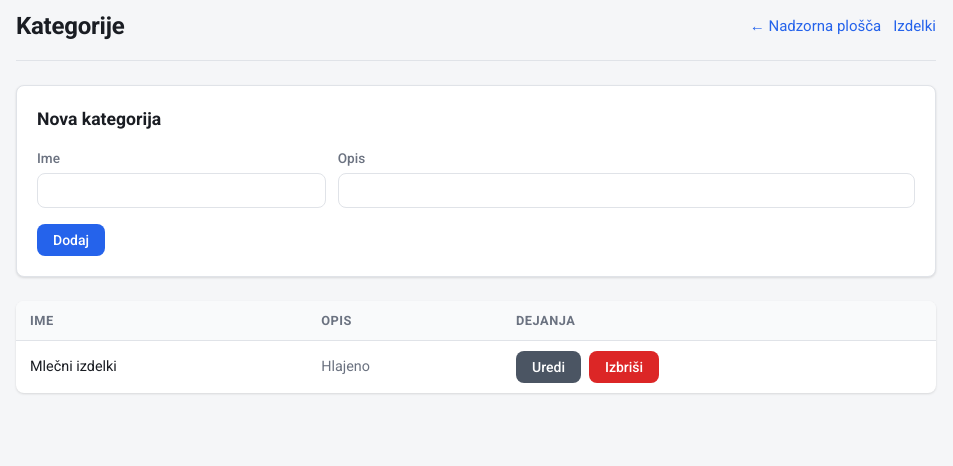
Test: CategoriesPage › shows CATEGORY_IN_USE when deleting a used category
Click the button "Izbriši".
click(624, 367)  # box [589,351,659,383]
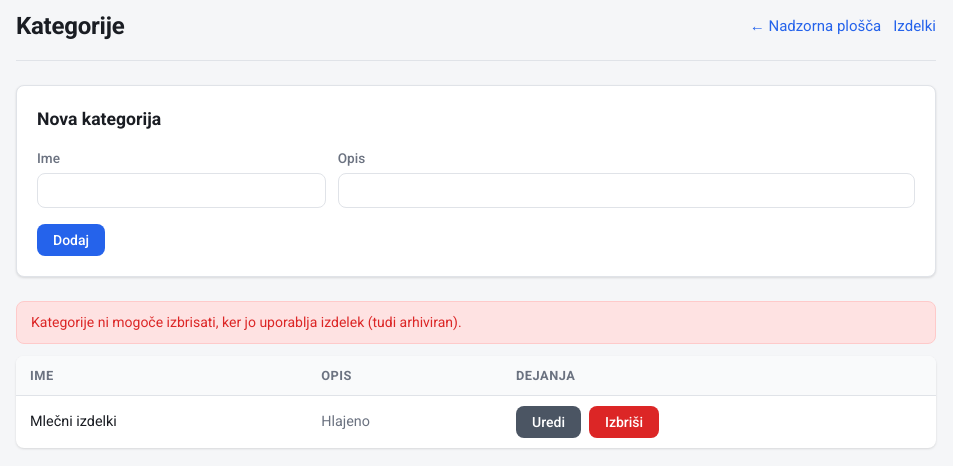
Check: the text "ker jo uporablja izdelek" is shown, box [31,314,462,330]
